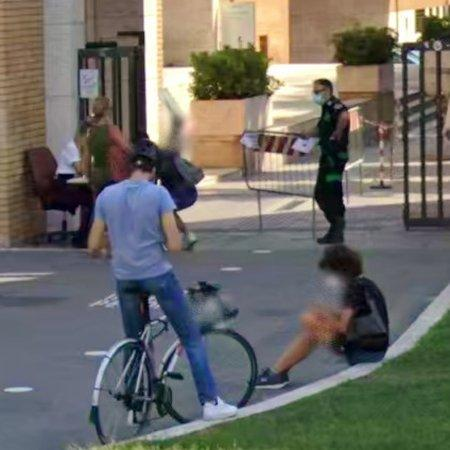bicycles: (91, 317, 200, 445), (190, 283, 259, 409)
